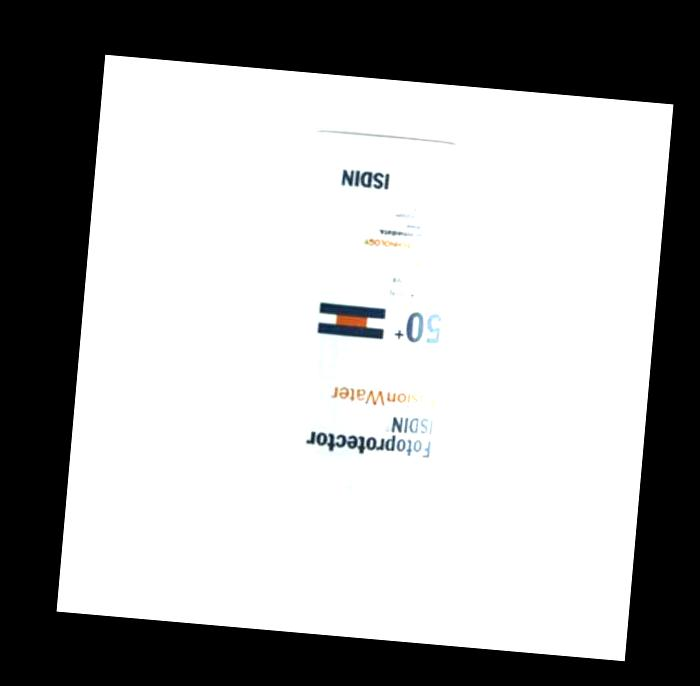cosmetic: (246, 124, 482, 582)
